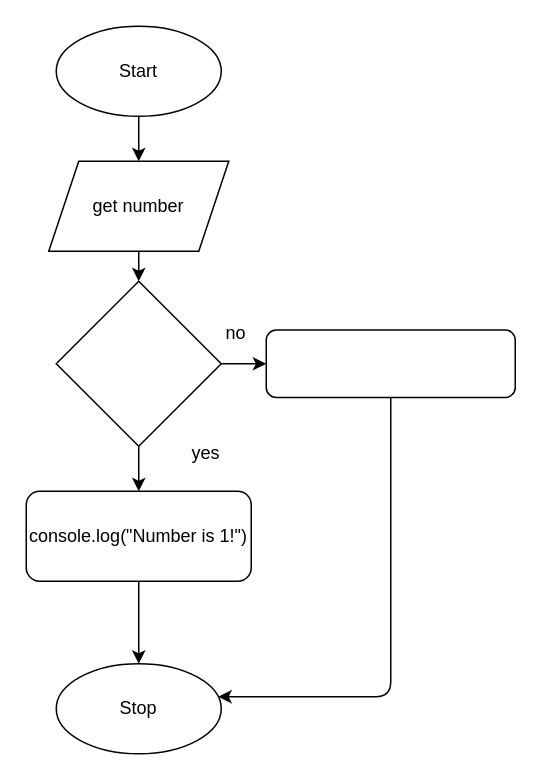
The diagram is 542 pixels wide and 780 high, and some of its shapes have lost their labels. Here are the shapes that lost their labels. From the top down, the centre of each, then its label:
the point at 138,363: if number == 1
the point at 390,363: console.log("Number is not 1")
